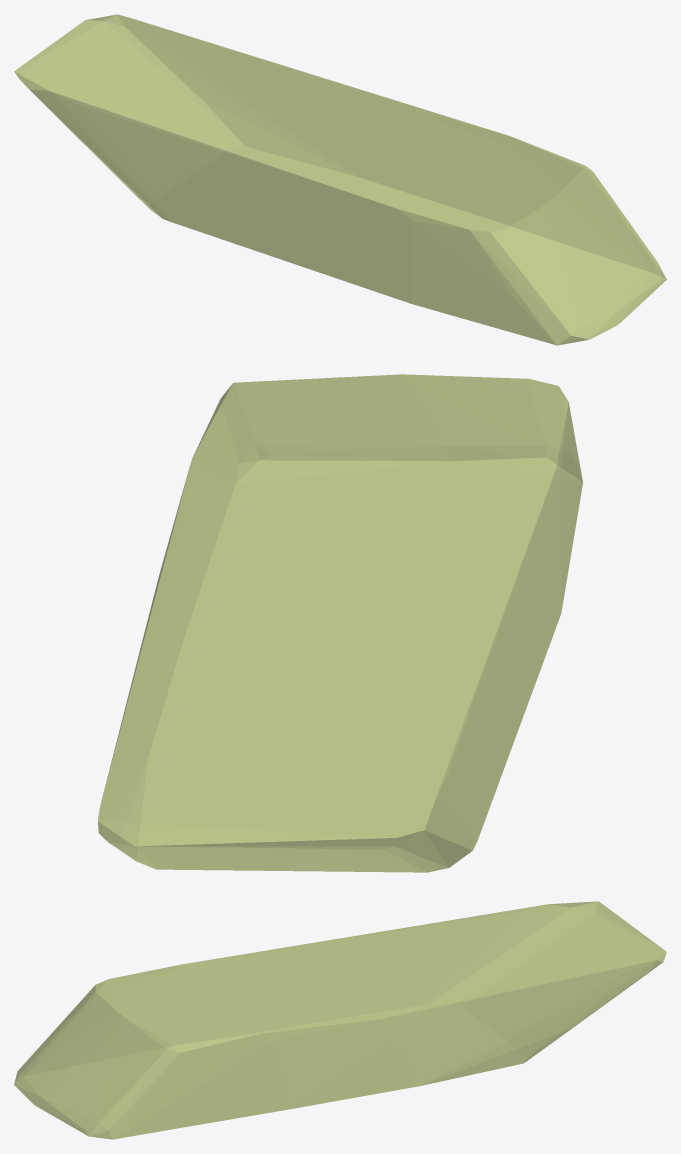
The picture shows the model from 3 angles, top to bottom: view 1: azimuth 30°, elevation 25°; view 2: azimuth 150°, elevation 25°; view 3: azimuth 270°, elevation 25°; orthographic projection. The views are drawn at different scales.
Parts seen in each view (by area): view 1: Shape_IndexedFaceSet.002_Shape_IndexedFaceSet.8609; view 2: Shape_IndexedFaceSet.002_Shape_IndexedFaceSet.8609; view 3: Shape_IndexedFaceSet.002_Shape_IndexedFaceSet.8609.
Boxes of the visible parts, x1=… form: Shape_IndexedFaceSet.002_Shape_IndexedFaceSet.8609: x1=14, y1=14, x2=666, y2=345; Shape_IndexedFaceSet.002_Shape_IndexedFaceSet.8609: x1=98, y1=374, x2=582, y2=872; Shape_IndexedFaceSet.002_Shape_IndexedFaceSet.8609: x1=14, y1=901, x2=666, y2=1139.
Size of the model in its own units: 0.0489 by 0.0116 by 0.0853.
